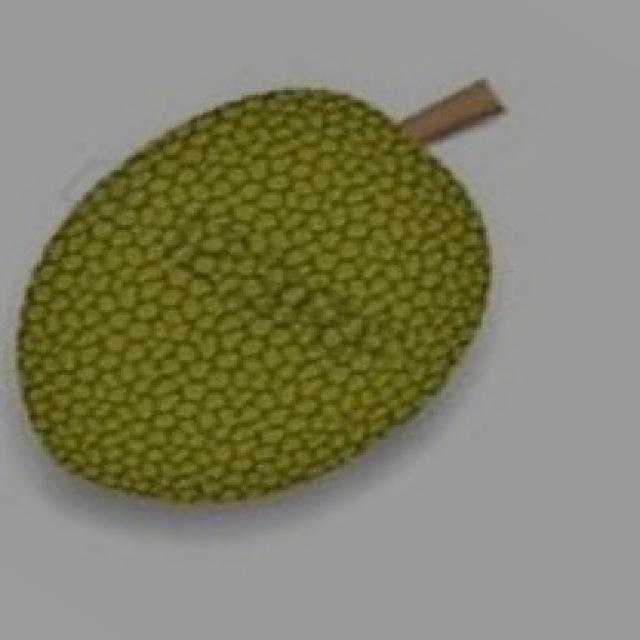Fruit: (163, 55, 529, 437)
